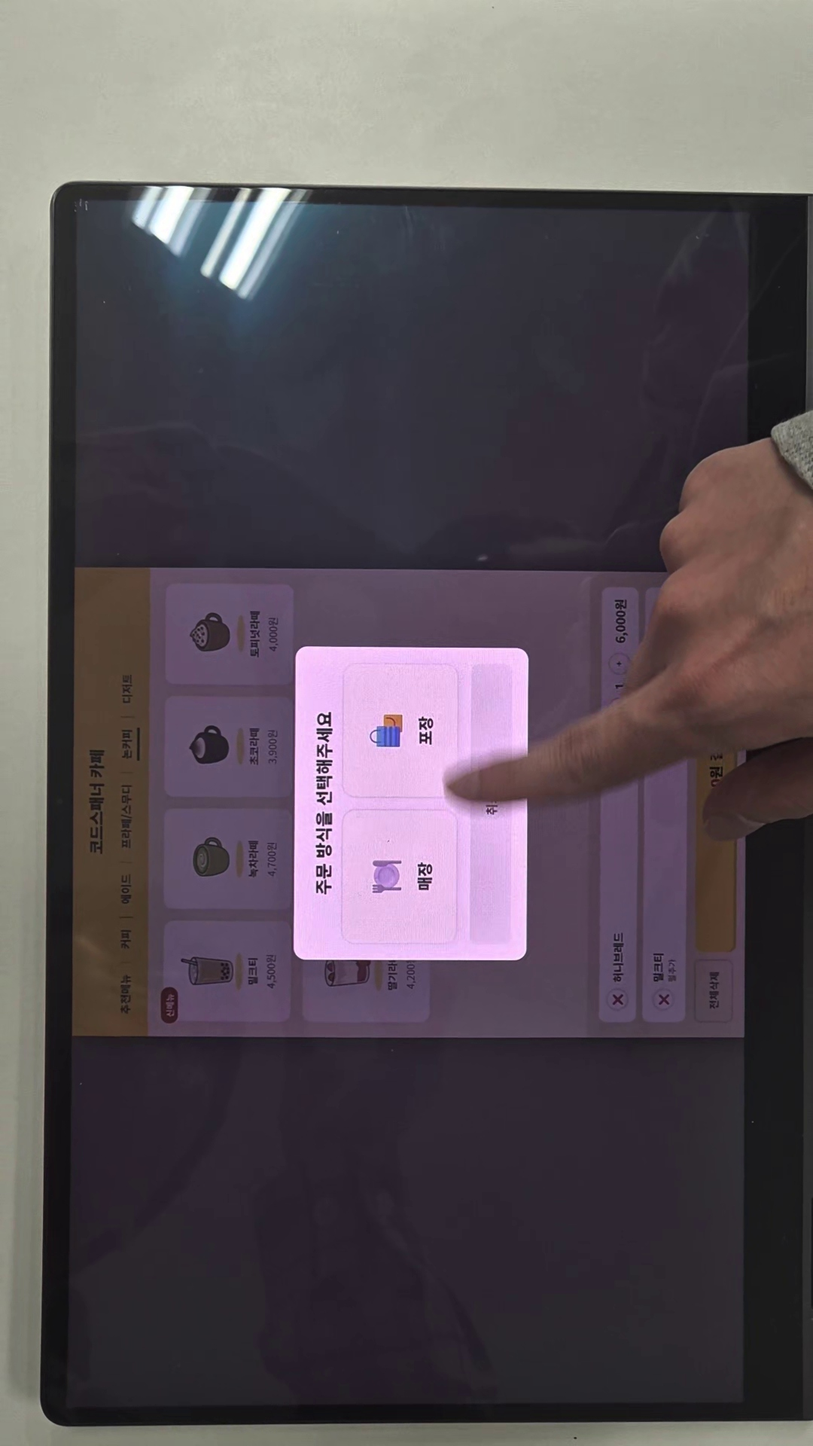action_button: (470, 664, 510, 942)
option_button: (344, 662, 456, 799), (343, 808, 457, 941)
popup_modal: (294, 646, 527, 960)
